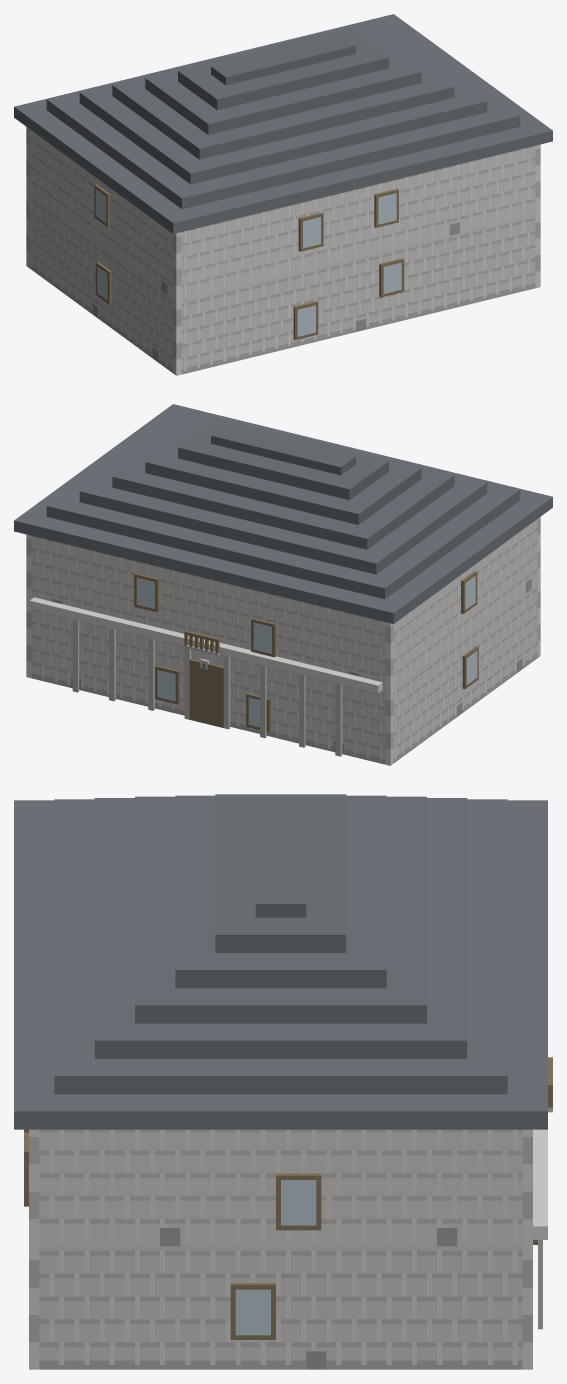
The model's file is ayuntamiento_03.glb.
3 views of the same model, one above another, from view 1: azimuth 30°, elevation 25°; view 2: azimuth 150°, elevation 25°; view 3: azimuth 270°, elevation 25° (orthographic). The views are drawn at different scales.
Parts seen in each view (by area): view 1: ayuntamiento_03; view 2: ayuntamiento_03; view 3: ayuntamiento_03.
Part boxes in pixels (x1,y1,x2,y2): ayuntamiento_03: [14, 14, 552, 375]; ayuntamiento_03: [14, 404, 552, 765]; ayuntamiento_03: [14, 794, 552, 1369].
Bounding box in the file's own units: 14.6 × 8.1 × 10.7.
